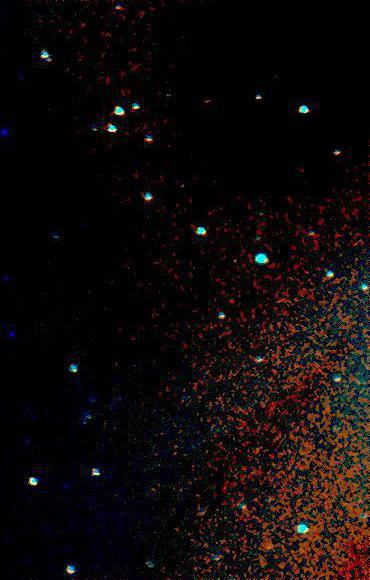star: (252, 532, 282, 562)
